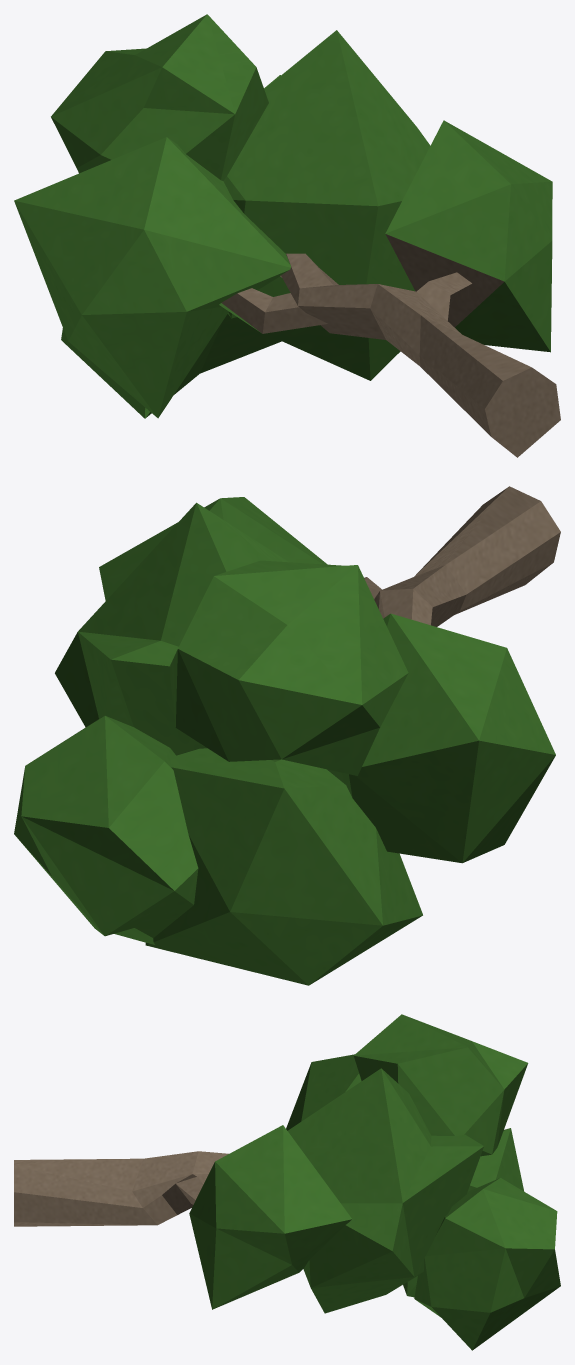
File: all_share_tree_13.FBX
The picture shows the model from 3 angles, top to bottom: view 1: azimuth 30°, elevation 25°; view 2: azimuth 150°, elevation 25°; view 3: azimuth 270°, elevation 25°; orthographic projection. The views are drawn at different scales.
Visible parts, largest first — view 1: tree_14; view 2: tree_14; view 3: tree_14.
Part boxes in pixels (x1=…): tree_14: x1=14, y1=14, x2=560, y2=457; tree_14: x1=14, y1=486, x2=560, y2=985; tree_14: x1=14, y1=1014, x2=560, y2=1350.
Bounding box in the file's own units: 109 × 83.01 × 152.
